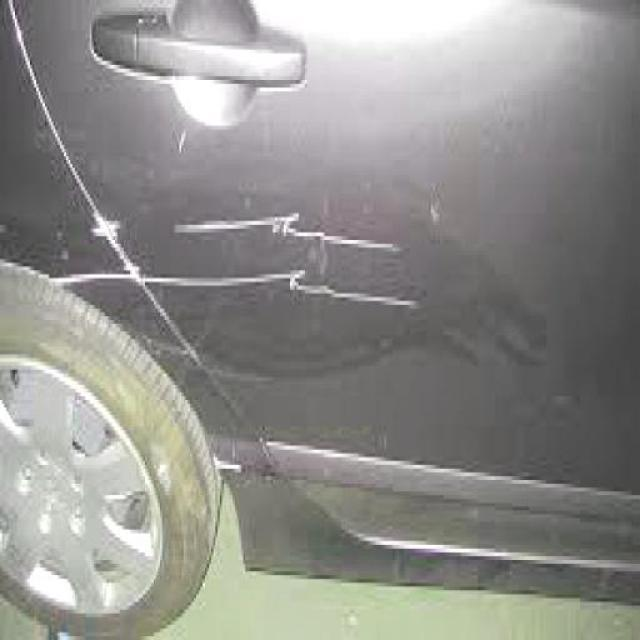car damage: (53, 198, 425, 324)
